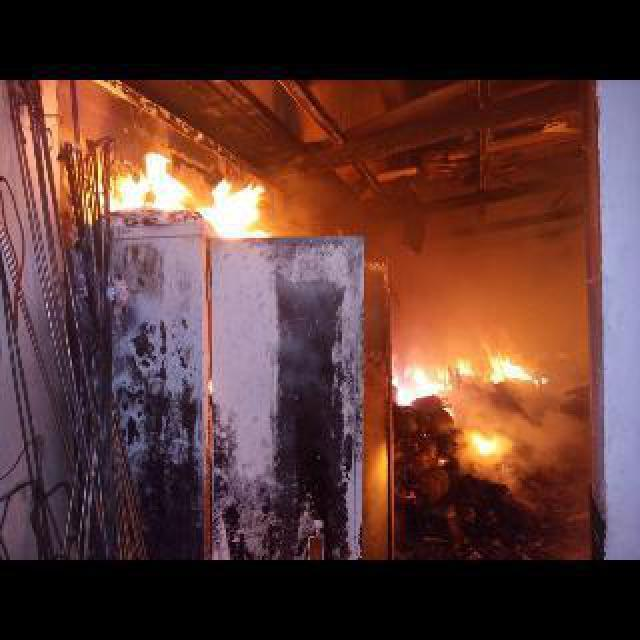smoke: (510, 388, 590, 474)
zfire: (98, 156, 276, 232), (392, 362, 450, 408), (486, 348, 552, 382), (472, 428, 510, 454), (452, 358, 476, 376)
